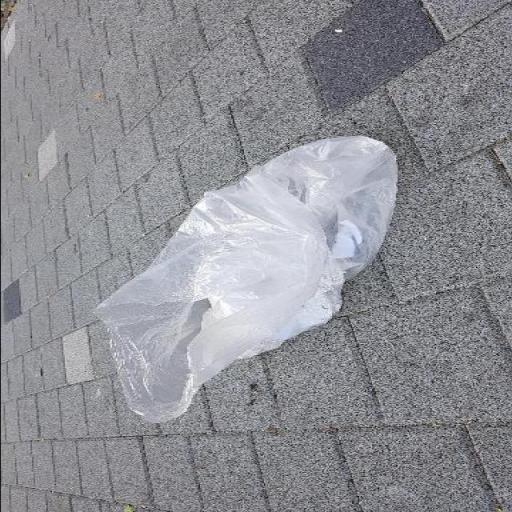plastic-bag: (90, 134, 403, 424)
